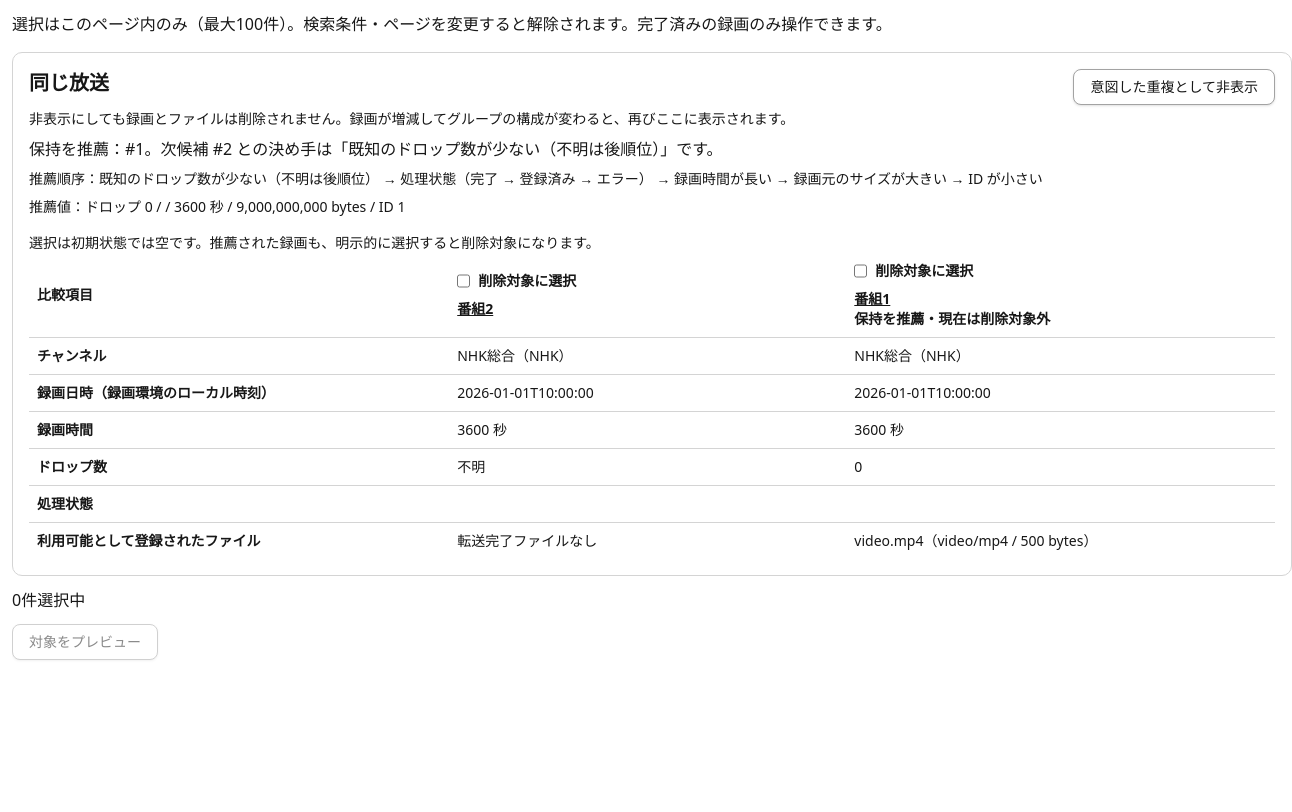
Test: DuplicateReviewPanel › hides a group as an intentional duplicate by its exact members and refreshes
The width and height of the screenshot is (1292, 812).
Click the button with aria-label "意図した重複として非表示（#1, #2）": point(1174, 87) left=1073, top=69, right=1275, bottom=105
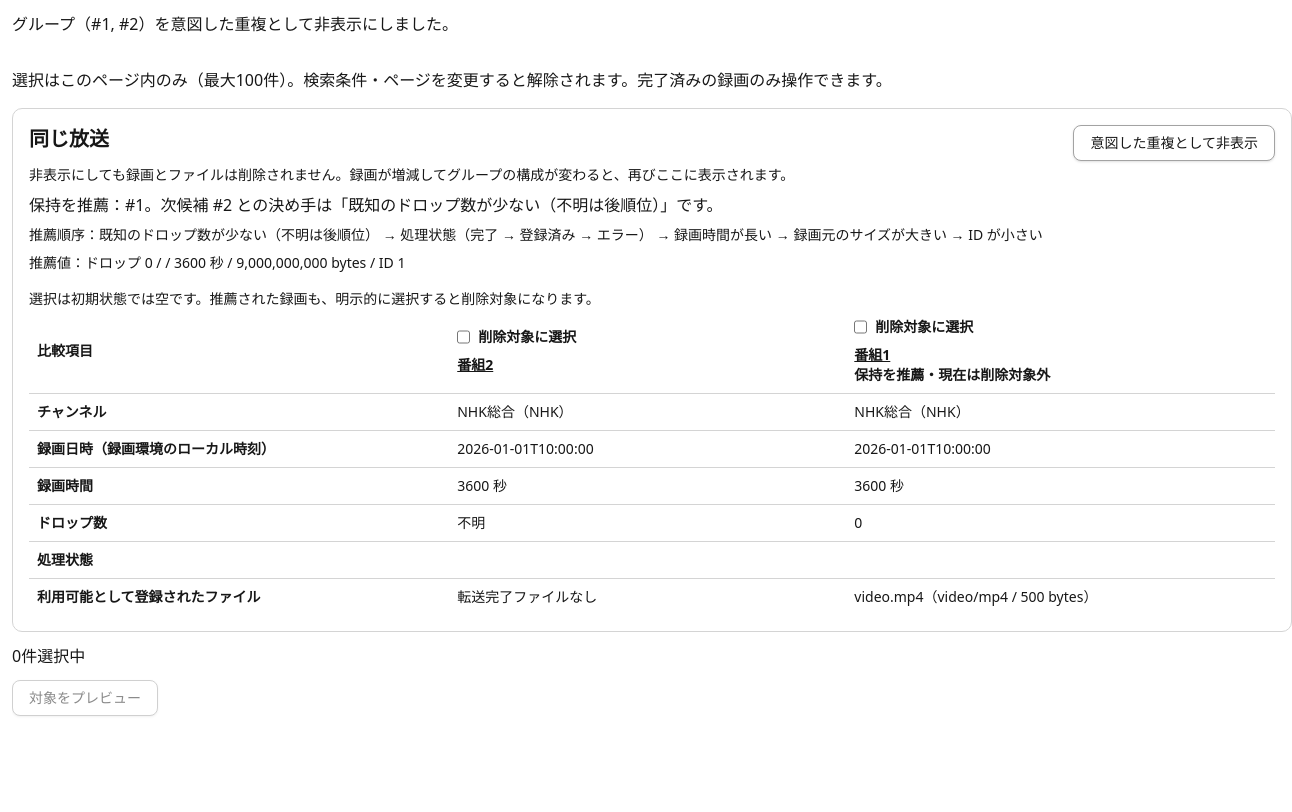
Now the text "グループ（#1, #2）を意図した重複として非表示にしました。" is shown, box left=12, top=13, right=458, bottom=35
